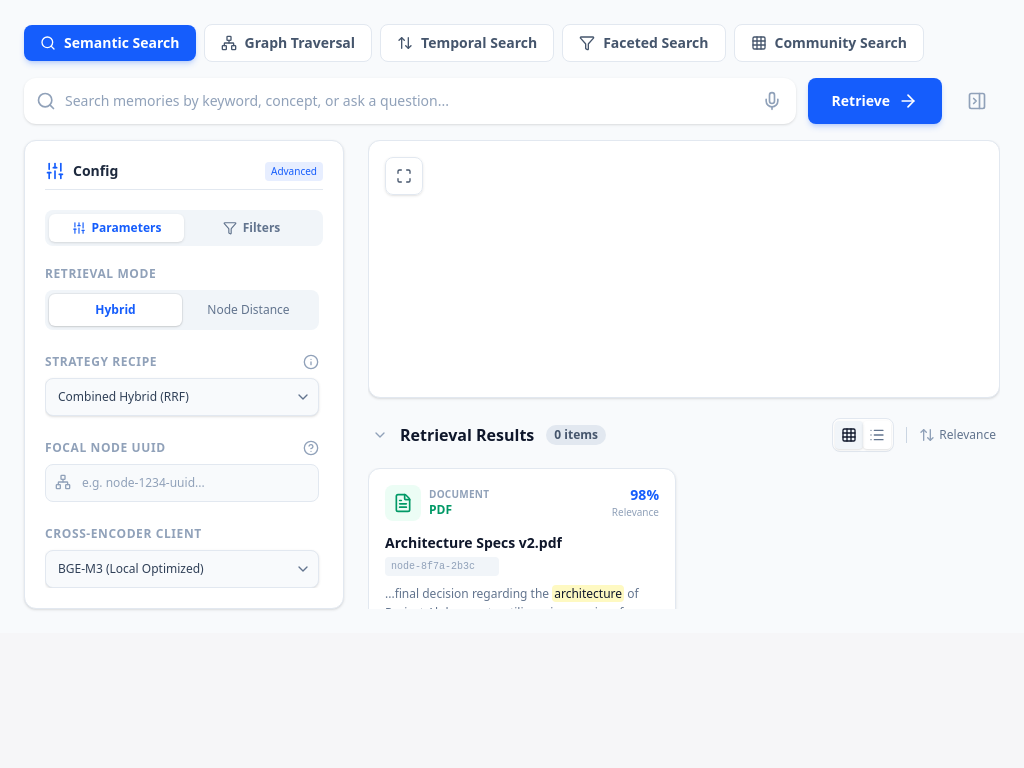
EnhancedSearch › Search Mode Buttons › switches to Community Search mode
Click the button "Community Search": (829, 43) [734,24,924,62]
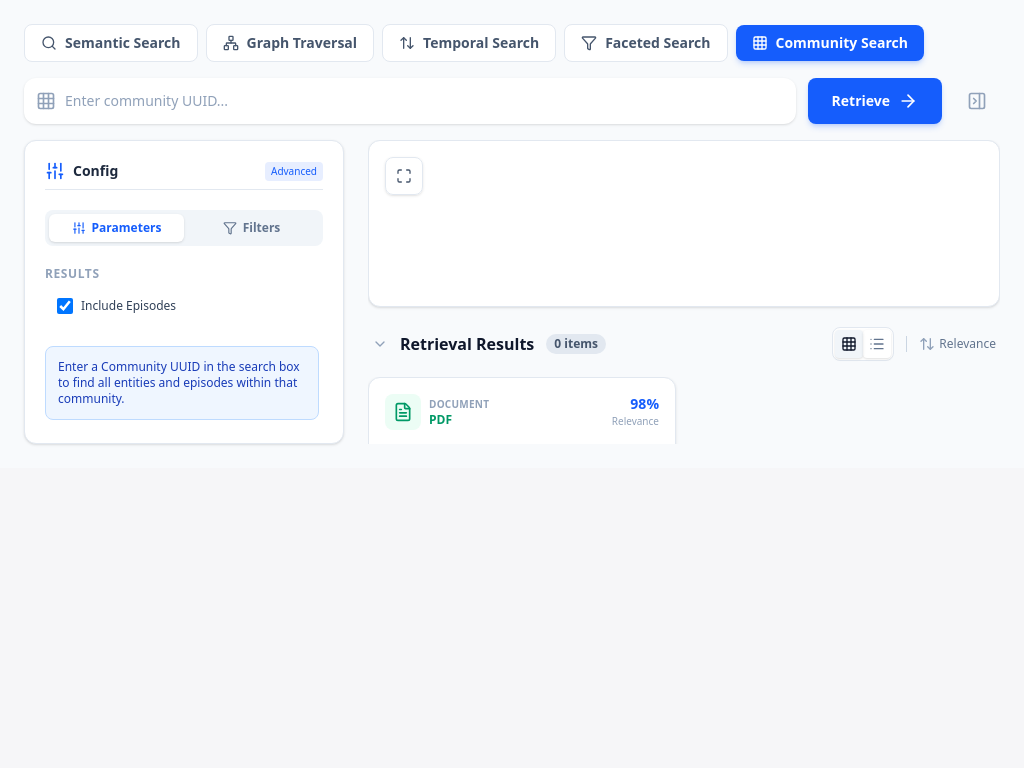
Expected: the field with placeholder "Enter community UUID..." is shown, [24,78,796,124]
